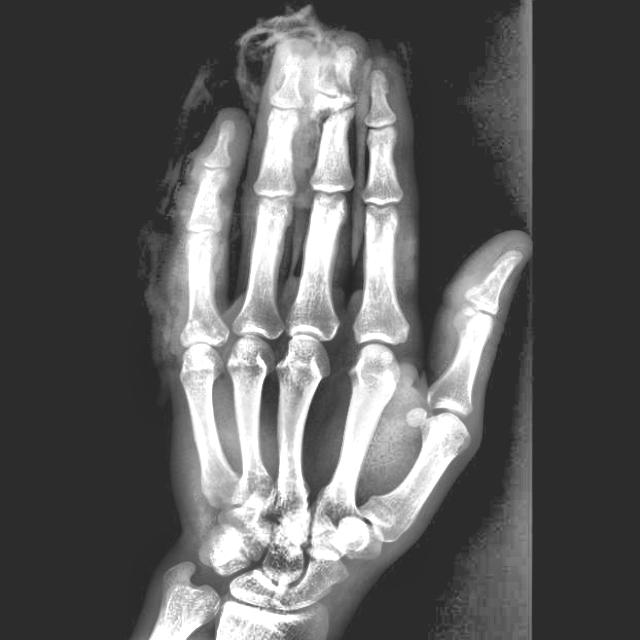fracture: (308, 38, 362, 116)
